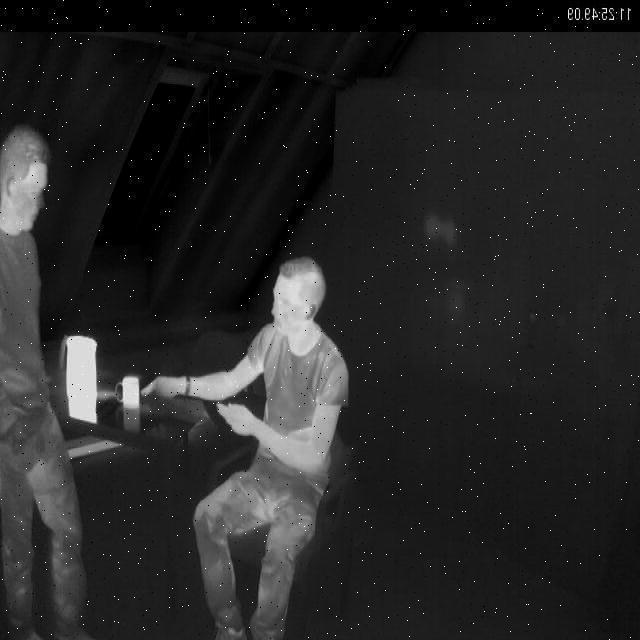person: (149, 255, 350, 640), (1, 102, 98, 640)
